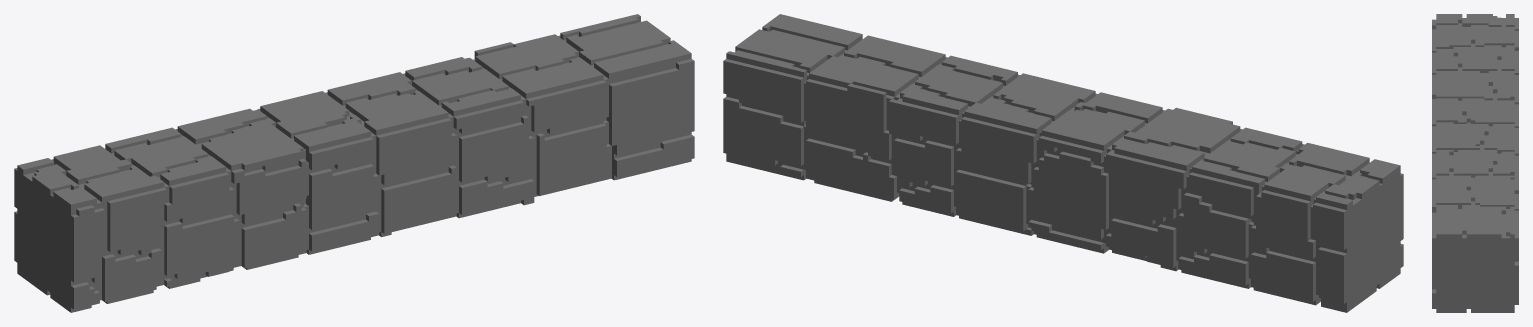
3 views of the same model, side by side, from view 1: azimuth 30°, elevation 25°; view 2: azimuth 150°, elevation 25°; view 3: azimuth 270°, elevation 25° (orthographic). The views are drawn at different scales.
Bounding box in the file's own units: 12 × 2 × 2.
1 material, 1 textured.
